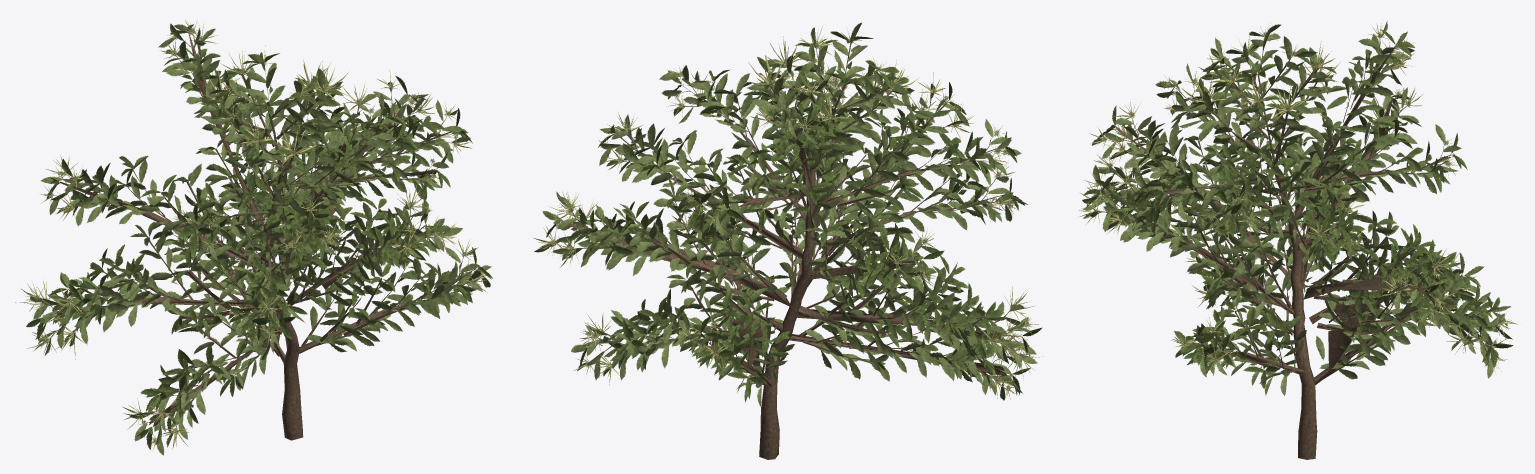
Rendered from chestnut_hero.glb.
3 renders of one model, left to right at view 1: azimuth 30°, elevation 25°; view 2: azimuth 150°, elevation 25°; view 3: azimuth 270°, elevation 25°, orthographic. The views are drawn at different scales.
Parts seen in each view (by area): view 1: EU43Leaf1, EU43Leaf2, EU43Bark4, EU43Stalk1, EU43stp2, EU43Twig1; view 2: EU43Leaf1, EU43Leaf2, EU43Bark4, EU43Stalk1, EU43stp2, EU43Twig1; view 3: EU43Leaf1, EU43Leaf2, EU43Bark4, EU43Stalk1, EU43stp2, EU43Twig1.
Boxes of the visible parts, x1=… form: EU43Leaf1: x1=30, y1=23, x2=491, y2=455; EU43Leaf2: x1=26, y1=24, x2=492, y2=449; EU43Bark4: x1=48, y1=33, x2=475, y2=440; EU43Stalk1: x1=15, y1=20, x2=486, y2=451; EU43stp2: x1=34, y1=29, x2=482, y2=443; EU43Twig1: x1=38, y1=34, x2=476, y2=438; EU43Leaf1: x1=534, y1=22, x2=1037, y2=406; EU43Leaf2: x1=542, y1=31, x2=1041, y2=399; EU43Bark4: x1=560, y1=43, x2=1021, y2=459; EU43Stalk1: x1=533, y1=26, x2=1043, y2=399; EU43stp2: x1=550, y1=37, x2=1029, y2=390; EU43Twig1: x1=554, y1=71, x2=1024, y2=386; EU43Leaf1: x1=1082, y1=21, x2=1512, y2=395; EU43Leaf2: x1=1083, y1=24, x2=1513, y2=389; EU43Bark4: x1=1101, y1=46, x2=1480, y2=459; EU43Stalk1: x1=1078, y1=21, x2=1518, y2=375; EU43stp2: x1=1093, y1=32, x2=1503, y2=362; EU43Twig1: x1=1099, y1=38, x2=1498, y2=358.
Size of the model in its own units: 4.93 by 4.46 by 4.42.
Materials: 6 (6 with a texture image).
